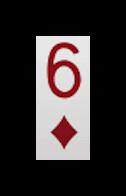6D: (39, 39, 85, 153)
